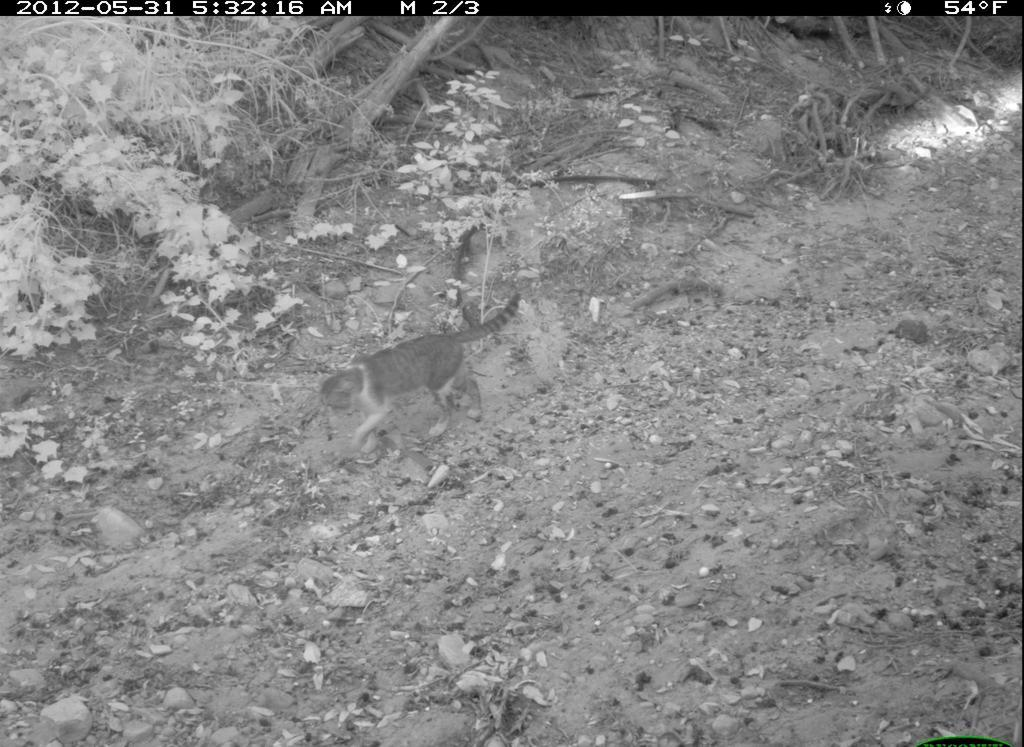cat: (310, 285, 534, 465)
